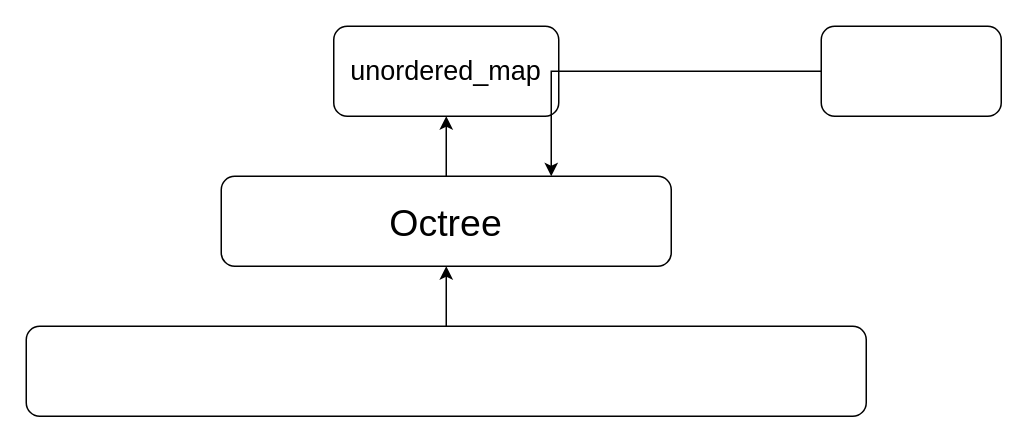
Some shapes in this 1028 by 443 pixel diagram are drawn without their labels. The shapes that lost their labels are listed below. From the top down, each one's box as (x1, y1, x2, y2) in pixels, then its label:
(820, 25, 1001, 116): nn
(25, 325, 866, 416): Voro++
